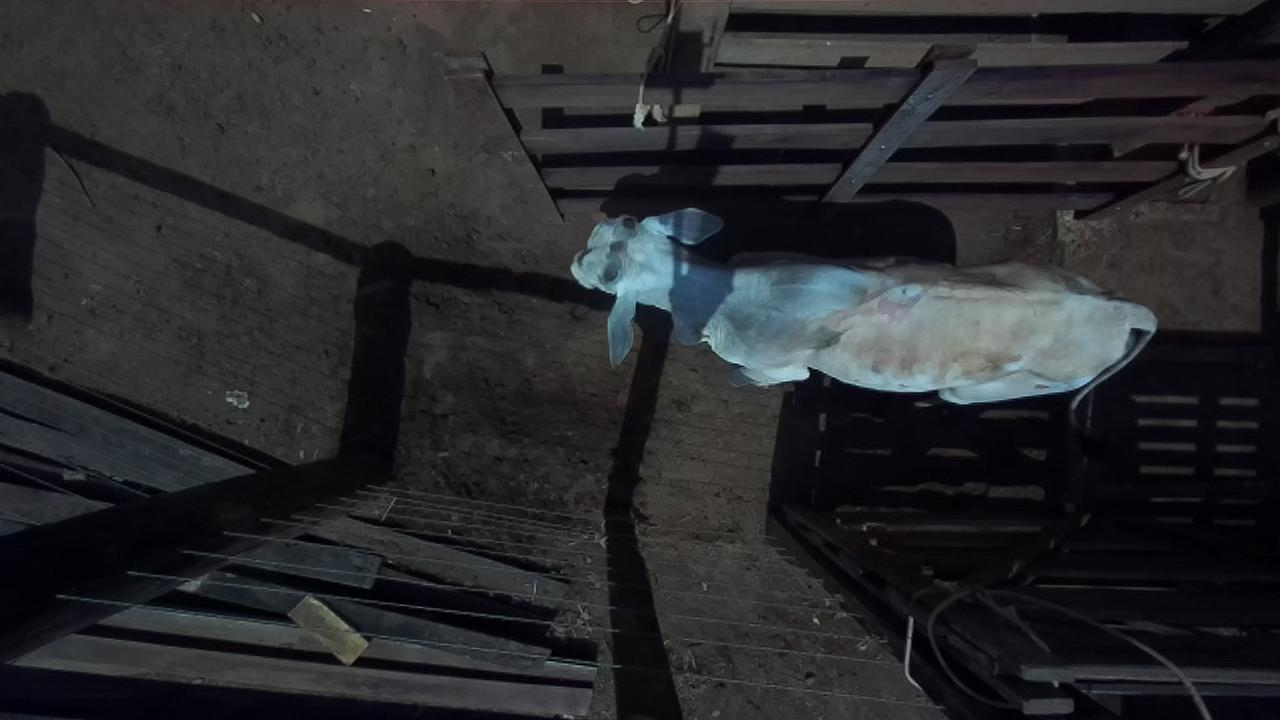cattle: (569, 205, 1158, 406)
